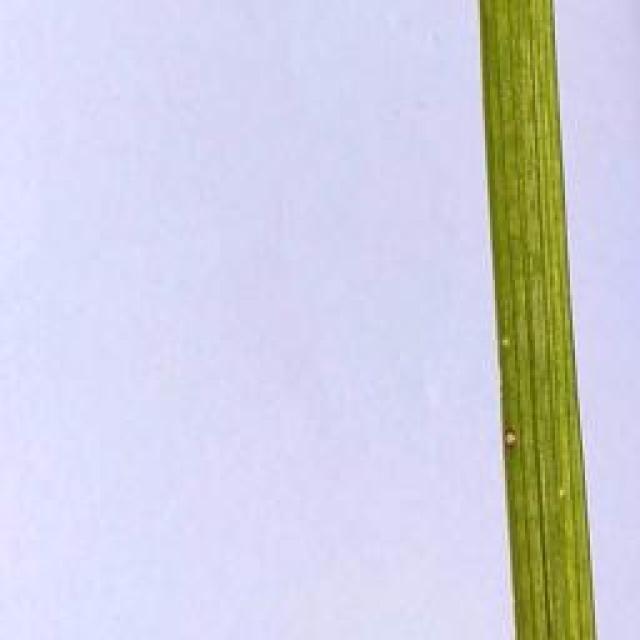Unhealthy: (503, 424, 516, 447), (499, 335, 513, 349)
